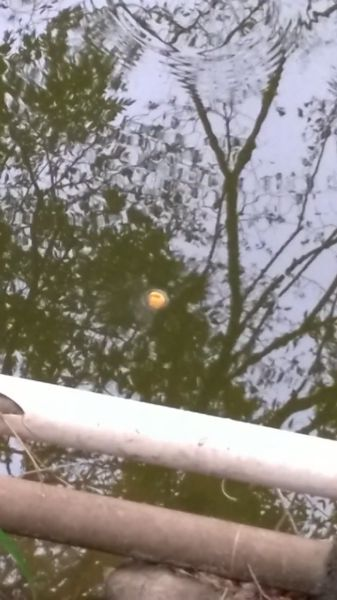eggs: (144, 285, 172, 316)
